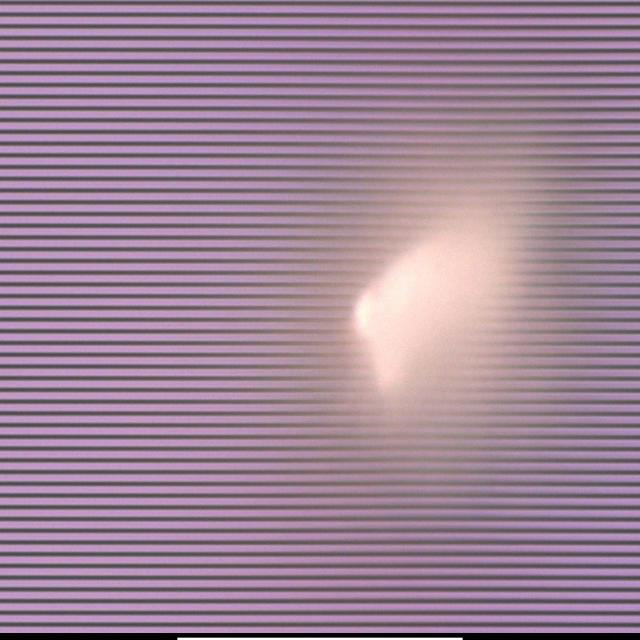nonvisual: (303, 133, 548, 453)
